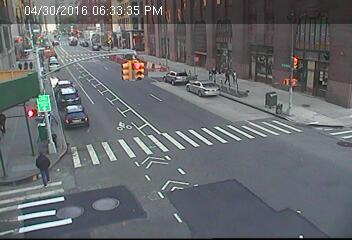neg: (281, 117, 315, 163), (199, 144, 225, 179), (136, 125, 161, 159), (128, 183, 151, 214), (88, 66, 111, 97), (251, 89, 273, 119), (271, 179, 293, 208), (28, 87, 50, 116), (100, 194, 120, 220), (60, 89, 80, 115), (125, 58, 145, 83), (161, 88, 176, 107), (74, 203, 88, 221)
pos: (23, 147, 55, 190), (222, 68, 235, 85), (27, 60, 37, 73), (14, 59, 23, 72)
